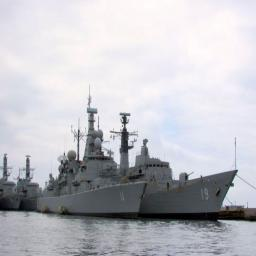Fragata: (27, 82, 149, 221), (112, 106, 240, 223)
